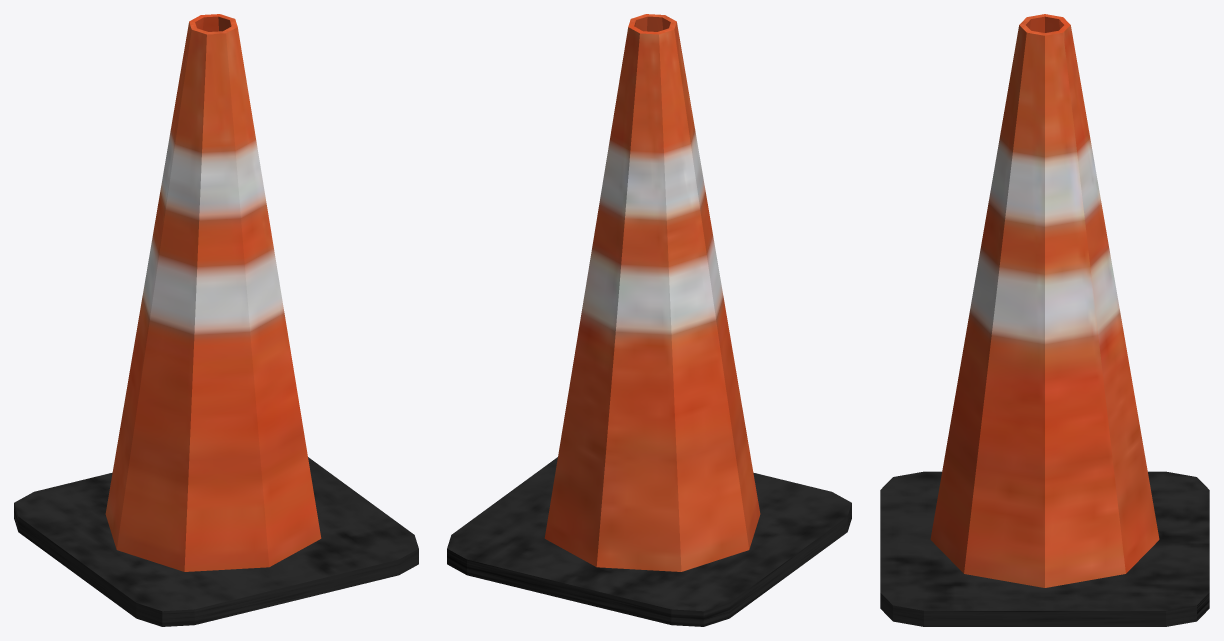
Rendered from TrafficCone.fbx.
3 views of the same model, side by side, from view 1: azimuth 30°, elevation 25°; view 2: azimuth 150°, elevation 25°; view 3: azimuth 270°, elevation 25° (orthographic). The views are drawn at different scales.
Visible parts, largest first — view 1: Cylinder, Cube; view 2: Cylinder, Cube; view 3: Cylinder, Cube.
Part boxes in pixels (<box>): Cylinder: <box>105,14,321,571</box>; Cube: <box>14,457,418,626</box>; Cylinder: <box>544,14,760,571</box>; Cube: <box>447,457,851,626</box>; Cylinder: <box>930,14,1159,587</box>; Cube: <box>880,471,1209,626</box>.
Bounding box in the file's own units: 897 × 1595 × 897.
Materials: 1 (1 with a texture image).
